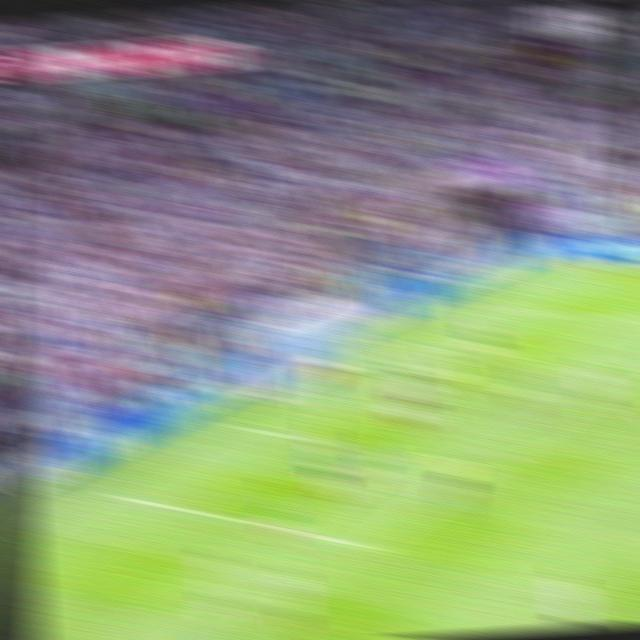bigarea_bottom_inner: (346, 530, 388, 562)
bigarea_bottom_outter: (84, 479, 124, 506)
bigarea_top_outter: (456, 294, 491, 315)
bottom_arc_area_intersection: (481, 440, 519, 467)
corner: (535, 258, 570, 274)
smallarea_bottom_inner: (291, 425, 326, 449)
smallarea_bottom_outter: (218, 414, 254, 436)
smallarea_top_inner: (443, 340, 477, 363)
smallarea_top_outter: (379, 334, 414, 354)
top_arc_area_intersection: (595, 363, 630, 390)
